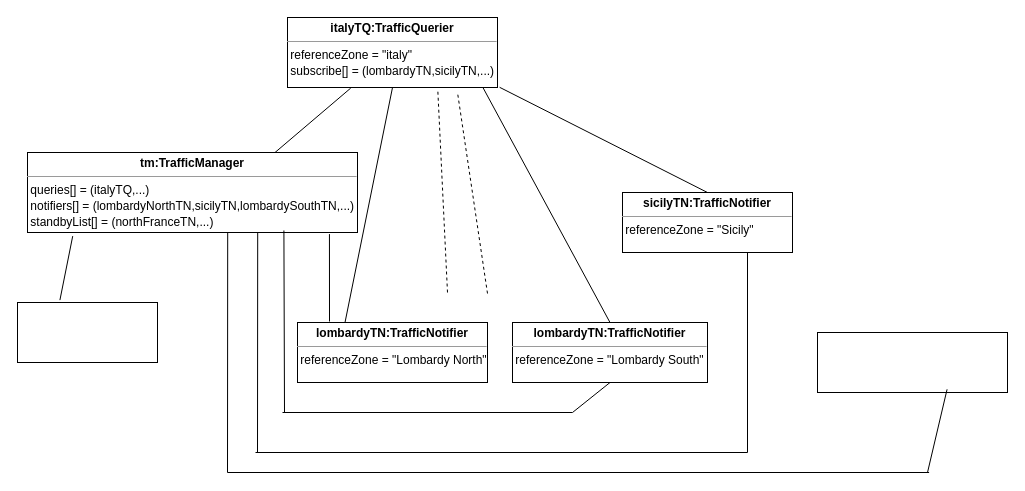
Some shapes in this 1025 by 491 pixel diagram are drawn without their labels. The shapes that lost their labels are listed below. From the top down, each one's centre as x and y in pixels, then its label:
point (87, 332): as:AddressSolver
point (912, 362): northFranceTN:TrafficNotifier referenceZone = "North France"
